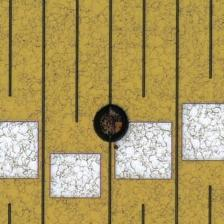PO CONTAMINATION: (86, 102, 138, 154)
